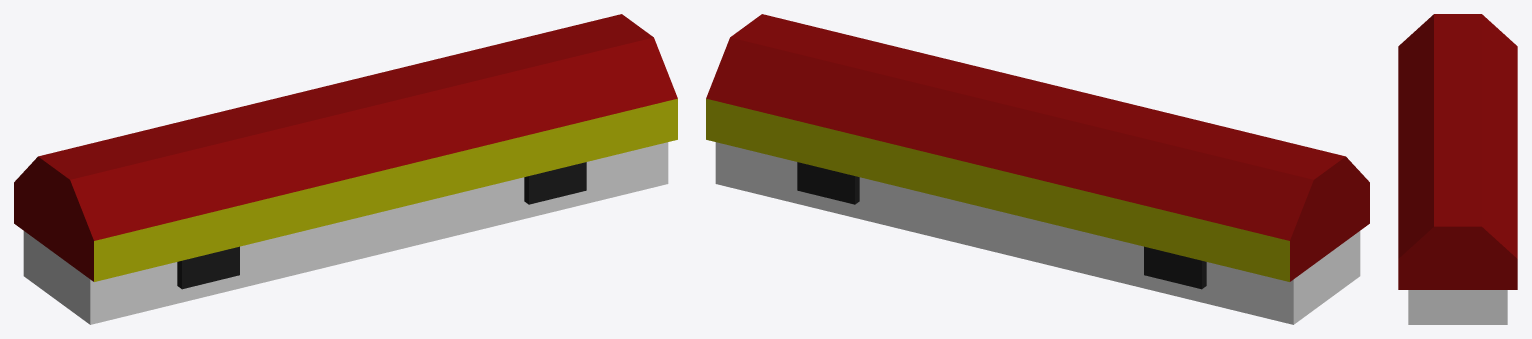
File: ToolBox.fbx
3 renders of one model, left to right at view 1: azimuth 30°, elevation 25°; view 2: azimuth 150°, elevation 25°; view 3: azimuth 270°, elevation 25°, orthographic. The views are drawn at different scales.
Parts seen in each view (by area): view 1: ToolBox, pCube1, pCube4, pCube3; view 2: ToolBox, pCube1, pCube5, pCube6; view 3: ToolBox, pCube1.
Part boxes in pixels (<box>): ToolBox: <box>14,14,677,281</box>; pCube1: <box>23,142,668,324</box>; pCube4: <box>524,162,586,204</box>; pCube3: <box>177,246,239,289</box>; ToolBox: <box>706,14,1369,281</box>; pCube1: <box>715,142,1360,324</box>; pCube5: <box>797,162,859,204</box>; pCube6: <box>1144,246,1206,289</box>; ToolBox: <box>1398,14,1517,289</box>; pCube1: <box>1408,290,1507,324</box>.
Size of the model in its own units: 5.05 by 1.1 by 1.2.
